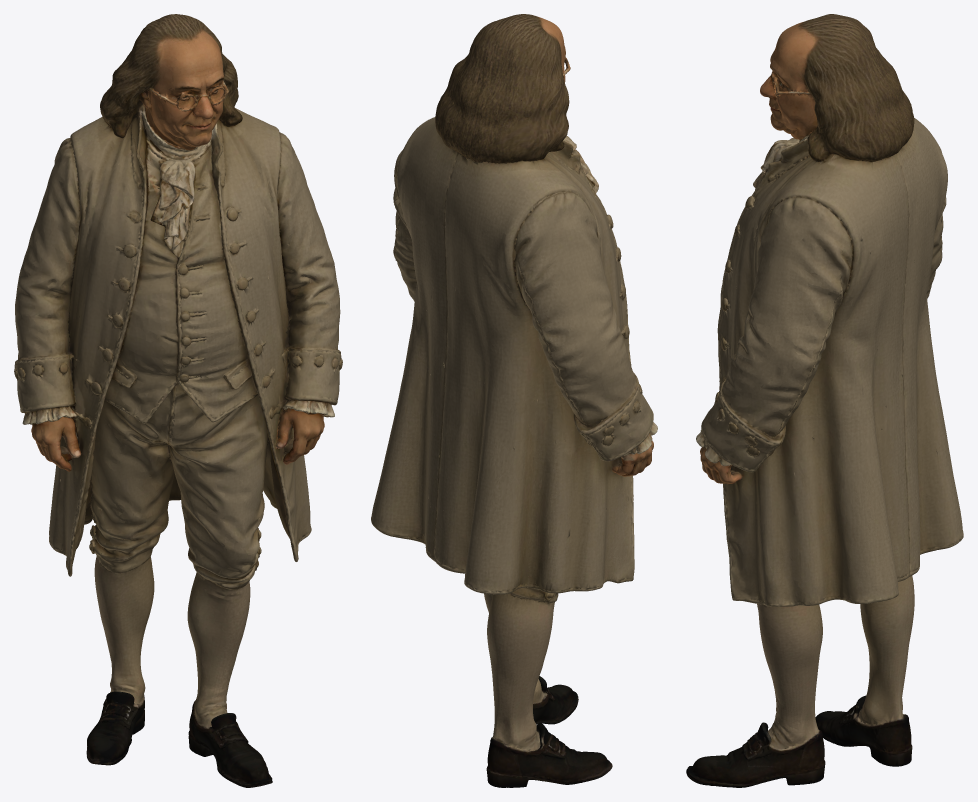
File: BJF-opt.fbx
The picture shows the model from 3 angles, left to right: view 1: azimuth 30°, elevation 25°; view 2: azimuth 150°, elevation 25°; view 3: azimuth 270°, elevation 25°; orthographic projection. The views are drawn at different scales.
Parts seen in each view (by area): view 1: tripo_node_b367e8af; view 2: tripo_node_b367e8af; view 3: tripo_node_b367e8af.
Part boxes in pixels (x1,y1,x2,y2): tripo_node_b367e8af: [14, 14, 342, 787]; tripo_node_b367e8af: [371, 14, 657, 787]; tripo_node_b367e8af: [686, 14, 963, 787].
Bounding box in the file's own units: 39.18 × 97.81 × 32.78.
1 material, 1 textured.
